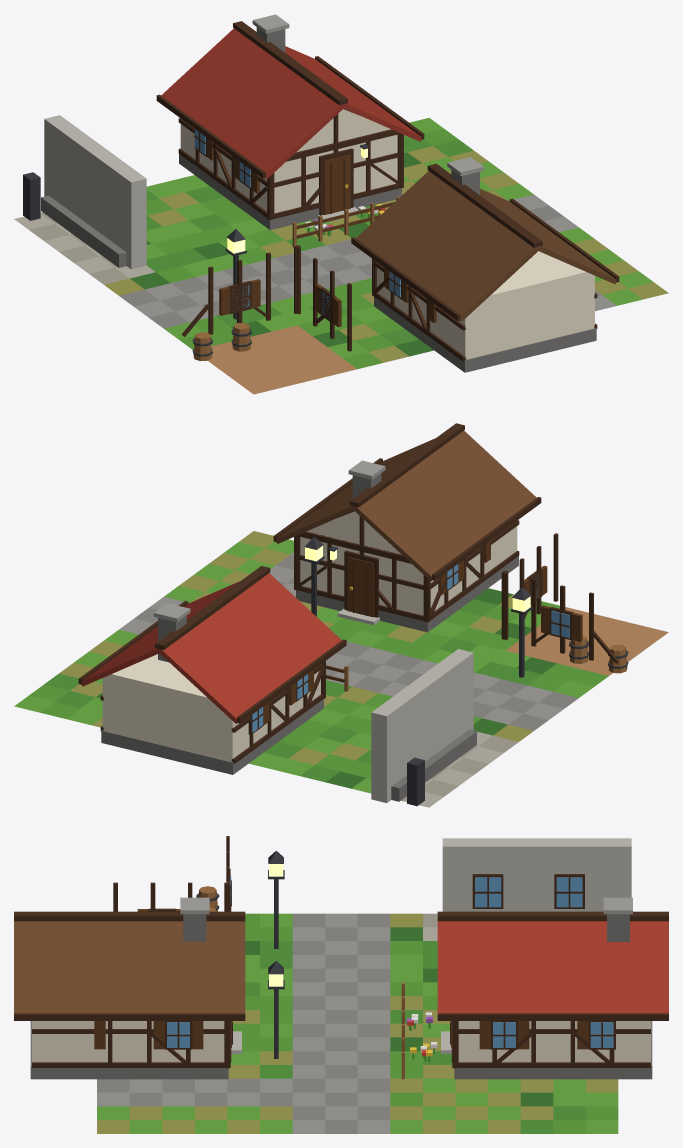
The model's file is chunk_7_5.glb.
3 views of the same model, one above another, from view 1: azimuth 30°, elevation 25°; view 2: azimuth 150°, elevation 25°; view 3: azimuth 270°, elevation 25° (orthographic). The views are drawn at different scales.
Parts seen in each view (by area): view 1: chunk_7_5; view 2: chunk_7_5; view 3: chunk_7_5.
Boxes of the visible parts, x1,y1,x2,y2 form: chunk_7_5: (14, 14, 668, 394); chunk_7_5: (14, 423, 668, 807); chunk_7_5: (14, 836, 668, 1133).
Size of the model in its own units: 16.41 by 4.94 by 20.1.
